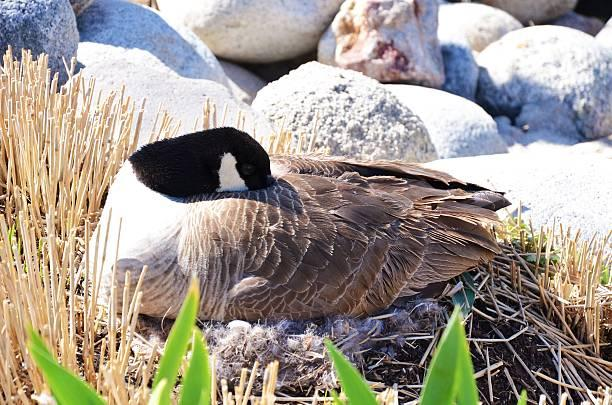Canadian-Goose: (84, 124, 498, 327)
